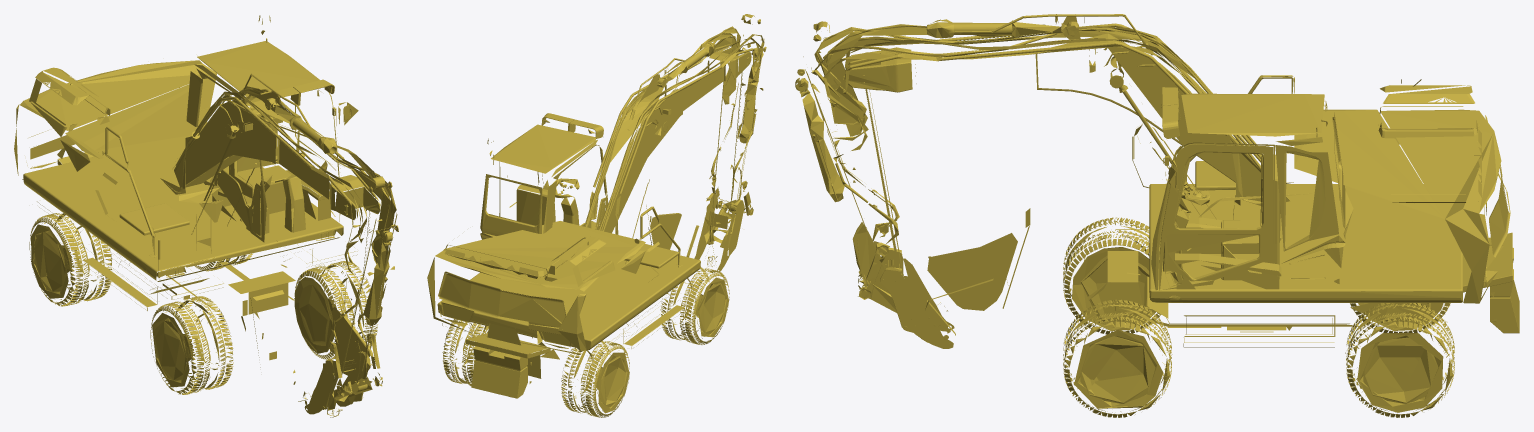
Rendered from excavator.glb.
3 views of the same model, side by side, from view 1: azimuth 30°, elevation 25°; view 2: azimuth 150°, elevation 25°; view 3: azimuth 270°, elevation 25° (orthographic). The views are drawn at different scales.
Visible parts, largest first — view 1: world; view 2: world; view 3: world.
Boxes of the visible parts, x1=… form: world: x1=14, y1=15, x2=398, y2=417; world: x1=427, y1=14, x2=766, y2=417; world: x1=795, y1=14, x2=1519, y2=417.
Bounding box in the file's own units: 2.64 × 3.44 × 6.5.
